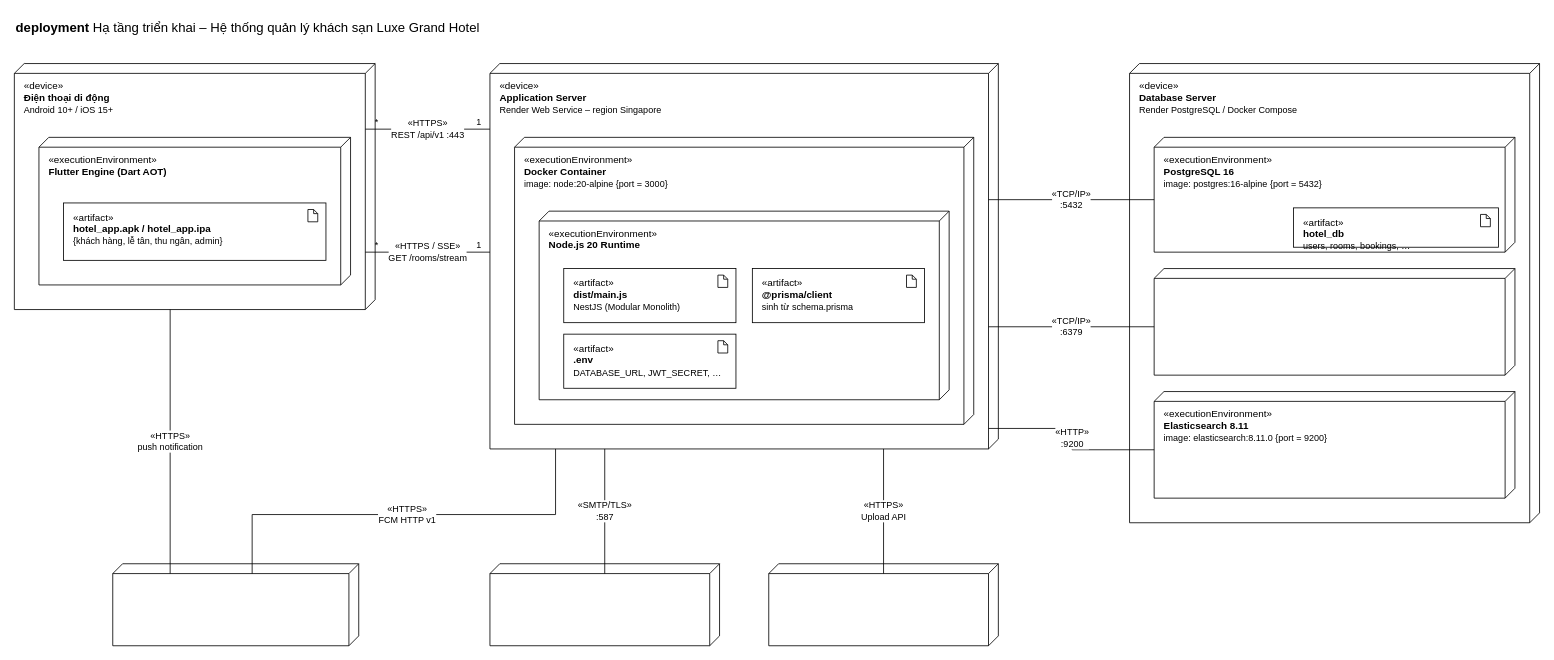
Some shapes in this 1554 by 660 pixel diagram are drawn without their labels. Here are the shapes that lost their labels. From the top down, the centre of each, then its label:
At (x=1334, y=321): "«executionEnvironment» Redis 7 image: redis:7-alpine {port = 6379}".
At (x=235, y=604): "«device» Firebase Cloud Messaging Google Cloud".
At (x=604, y=604): "«device» SMTP Server Gmail / SendGrid".
At (x=883, y=604): "«device» Cloudinary Media CDN".
